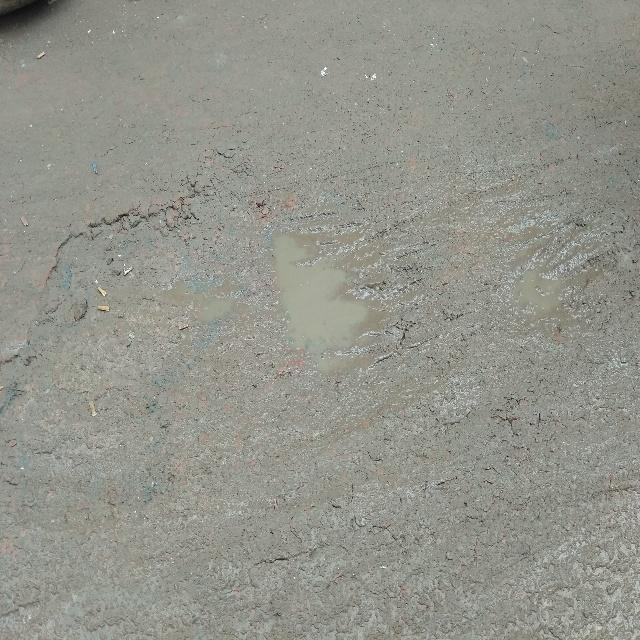Surface Erosion: (12, 111, 555, 508)
